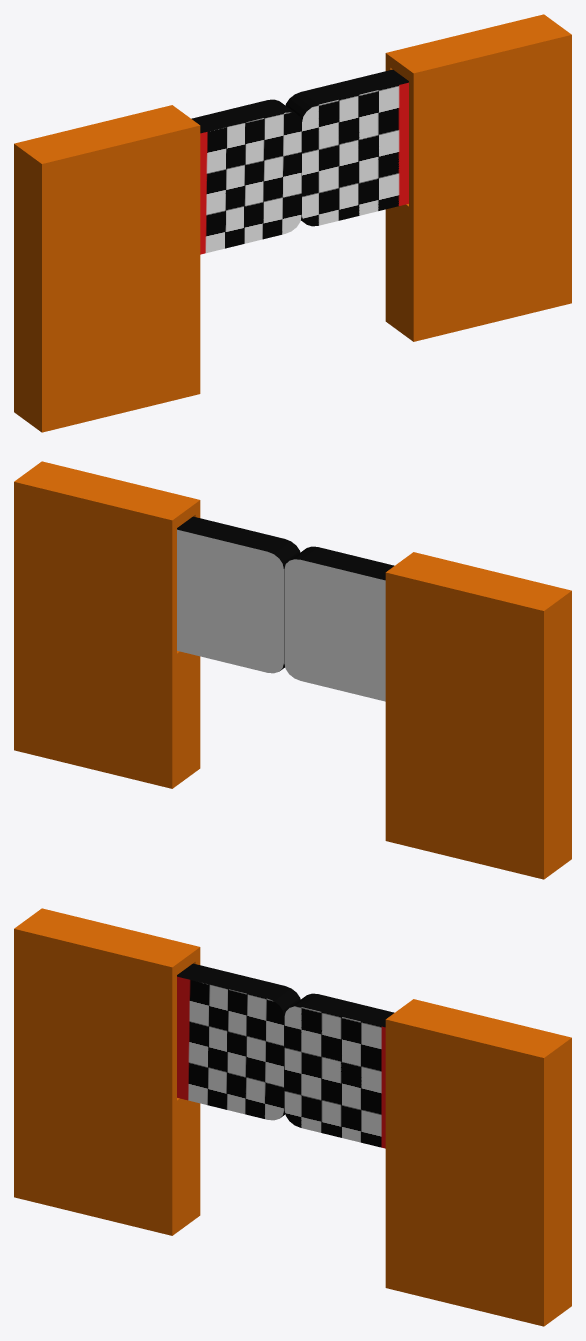
File: kapi.fbx
The picture shows the model from 3 angles, top to bottom: view 1: azimuth 30°, elevation 25°; view 2: azimuth 150°, elevation 25°; view 3: azimuth 330°, elevation 25°; orthographic projection.
Visible parts, largest first — view 1: kolonL, kolonR, kapiR, kapiL; view 2: kolonL, kolonR, kapiR, kapiL; view 3: kolonR, kolonL, kapiL, kapiR.
Part boxes in pixels (<box>): kolonL: <box>14,105,200,432</box>; kolonR: <box>385,14,571,341</box>; kapiR: <box>285,69,408,226</box>; kapiL: <box>191,99,301,254</box>; kolonL: <box>385,552,571,879</box>; kolonR: <box>14,461,200,788</box>; kapiR: <box>177,516,300,673</box>; kapiL: <box>284,546,394,701</box>; kolonR: <box>385,999,571,1326</box>; kolonL: <box>14,908,200,1235</box>; kapiL: <box>177,963,300,1120</box>; kapiR: <box>284,993,394,1148</box>.
Size of the model in its own units: 1632 by 790 by 149.
3 materials, 2 textured.
